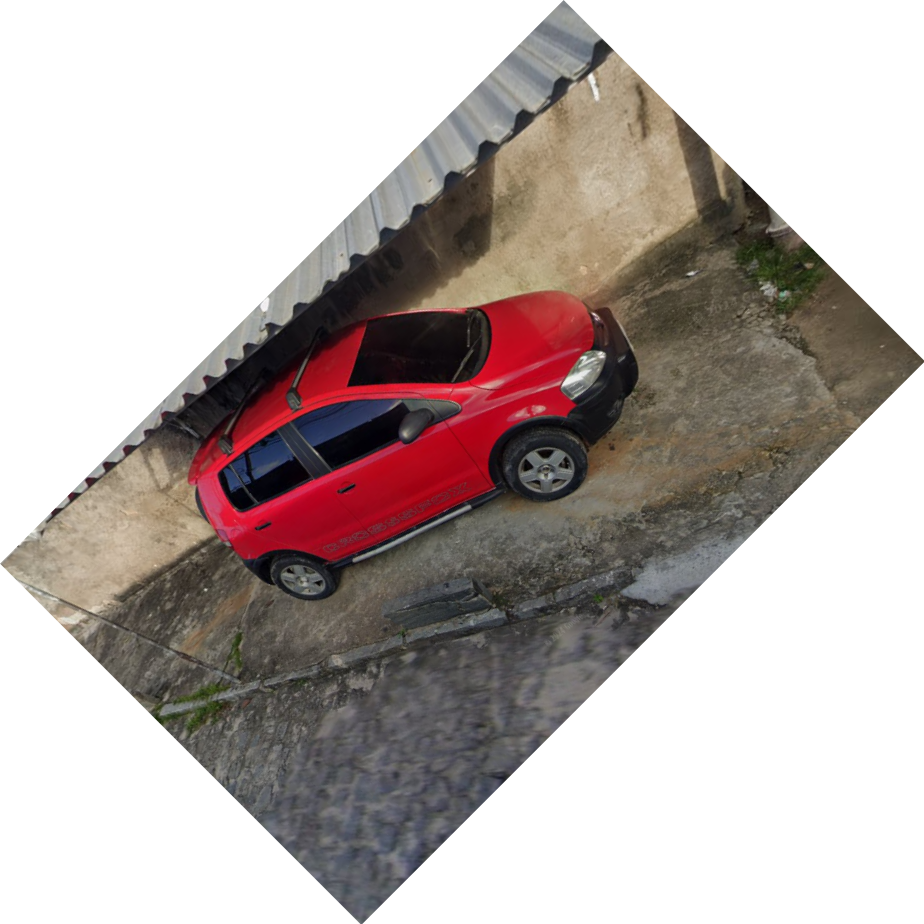car: (188, 289, 642, 600)
